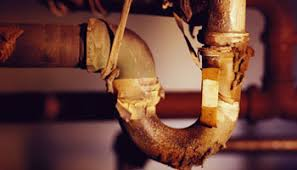rust: (111, 114, 237, 169), (200, 3, 231, 77), (228, 38, 257, 96)
